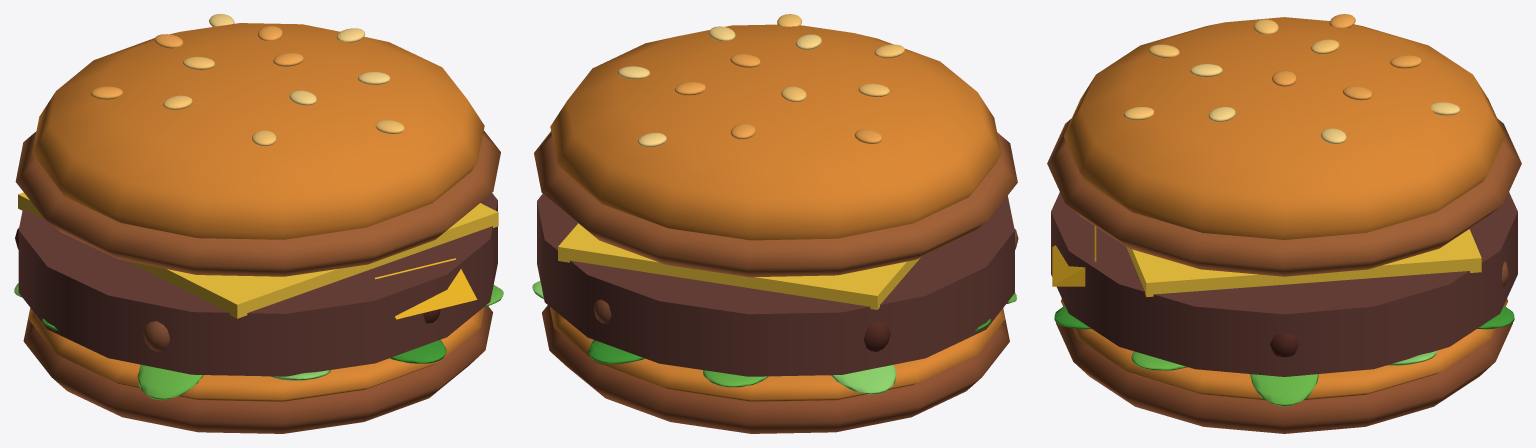
File: CMU3DFoodBurgerCheeseCloud.glb
3 views of the same model, side by side, from view 1: azimuth 30°, elevation 25°; view 2: azimuth 150°, elevation 25°; view 3: azimuth 270°, elevation 25° (orthographic).
Parts seen in each view (by area): view 1: top rounded golden bun, grilled beef patty 1, top bun toasted edge, bottom baked bun, bottom bun crumb, cheese slice 1, lettuce ruffle 07, cheese drape 1, lettuce ruffle 09, patty edge 1-4; view 2: top rounded golden bun, grilled beef patty 1, top bun toasted edge, bottom baked bun, bottom bun crumb, cheese slice 1, lettuce ruffle 05, lettuce ruffle 03, lettuce ruffle 04, patty edge 1-3; view 3: top rounded golden bun, grilled beef patty 1, top bun toasted edge, bottom baked bun, bottom bun crumb, cheese slice 1, lettuce ruffle 01, cheese drape 1, lettuce ruffle 10, patty edge 1-1.
Part boxes in pixels (x1,y1,x2,y2): top rounded golden bun: (32,23,484,239); grilled beef patty 1: (18,193,497,376); top bun toasted edge: (15,130,500,276); bottom baked bun: (23,306,492,433); bottom bun crumb: (28,307,484,401); cheese slice 1: (18,192,498,318); lettuce ruffle 07: (137,364,203,400); cheese drape 1: (374,258,477,319); lettuce ruffle 09: (390,340,446,363); patty edge 1-4: (143,321,169,351); top rounded golden bun: (550,24,1001,240); grilled beef patty 1: (537,194,1014,376); top bun toasted edge: (534,131,1017,277); bottom baked bun: (542,305,1009,433); bottom bun crumb: (550,307,1004,401); cheese slice 1: (558,223,920,309); lettuce ruffle 05: (831,365,896,394); lettuce ruffle 03: (588,340,644,363); lettuce ruffle 04: (703,370,768,387); patty edge 1-3: (863,321,890,351); top rounded golden bun: (1063,17,1505,239); grilled beef patty 1: (1051,192,1517,376); top bun toasted edge: (1047,118,1521,276); bottom baked bun: (1056,322,1512,433); bottom bun crumb: (1061,299,1507,400); cheese slice 1: (1126,229,1481,297); lettuce ruffle 01: (1250,374,1318,406); cheese drape 1: (1052,226,1096,286); lettuce ruffle 10: (1131,351,1187,370); patty edge 1-1: (1270,334,1298,357).
Size of the model in its own units: 0.508 by 0.3511 by 0.488.
